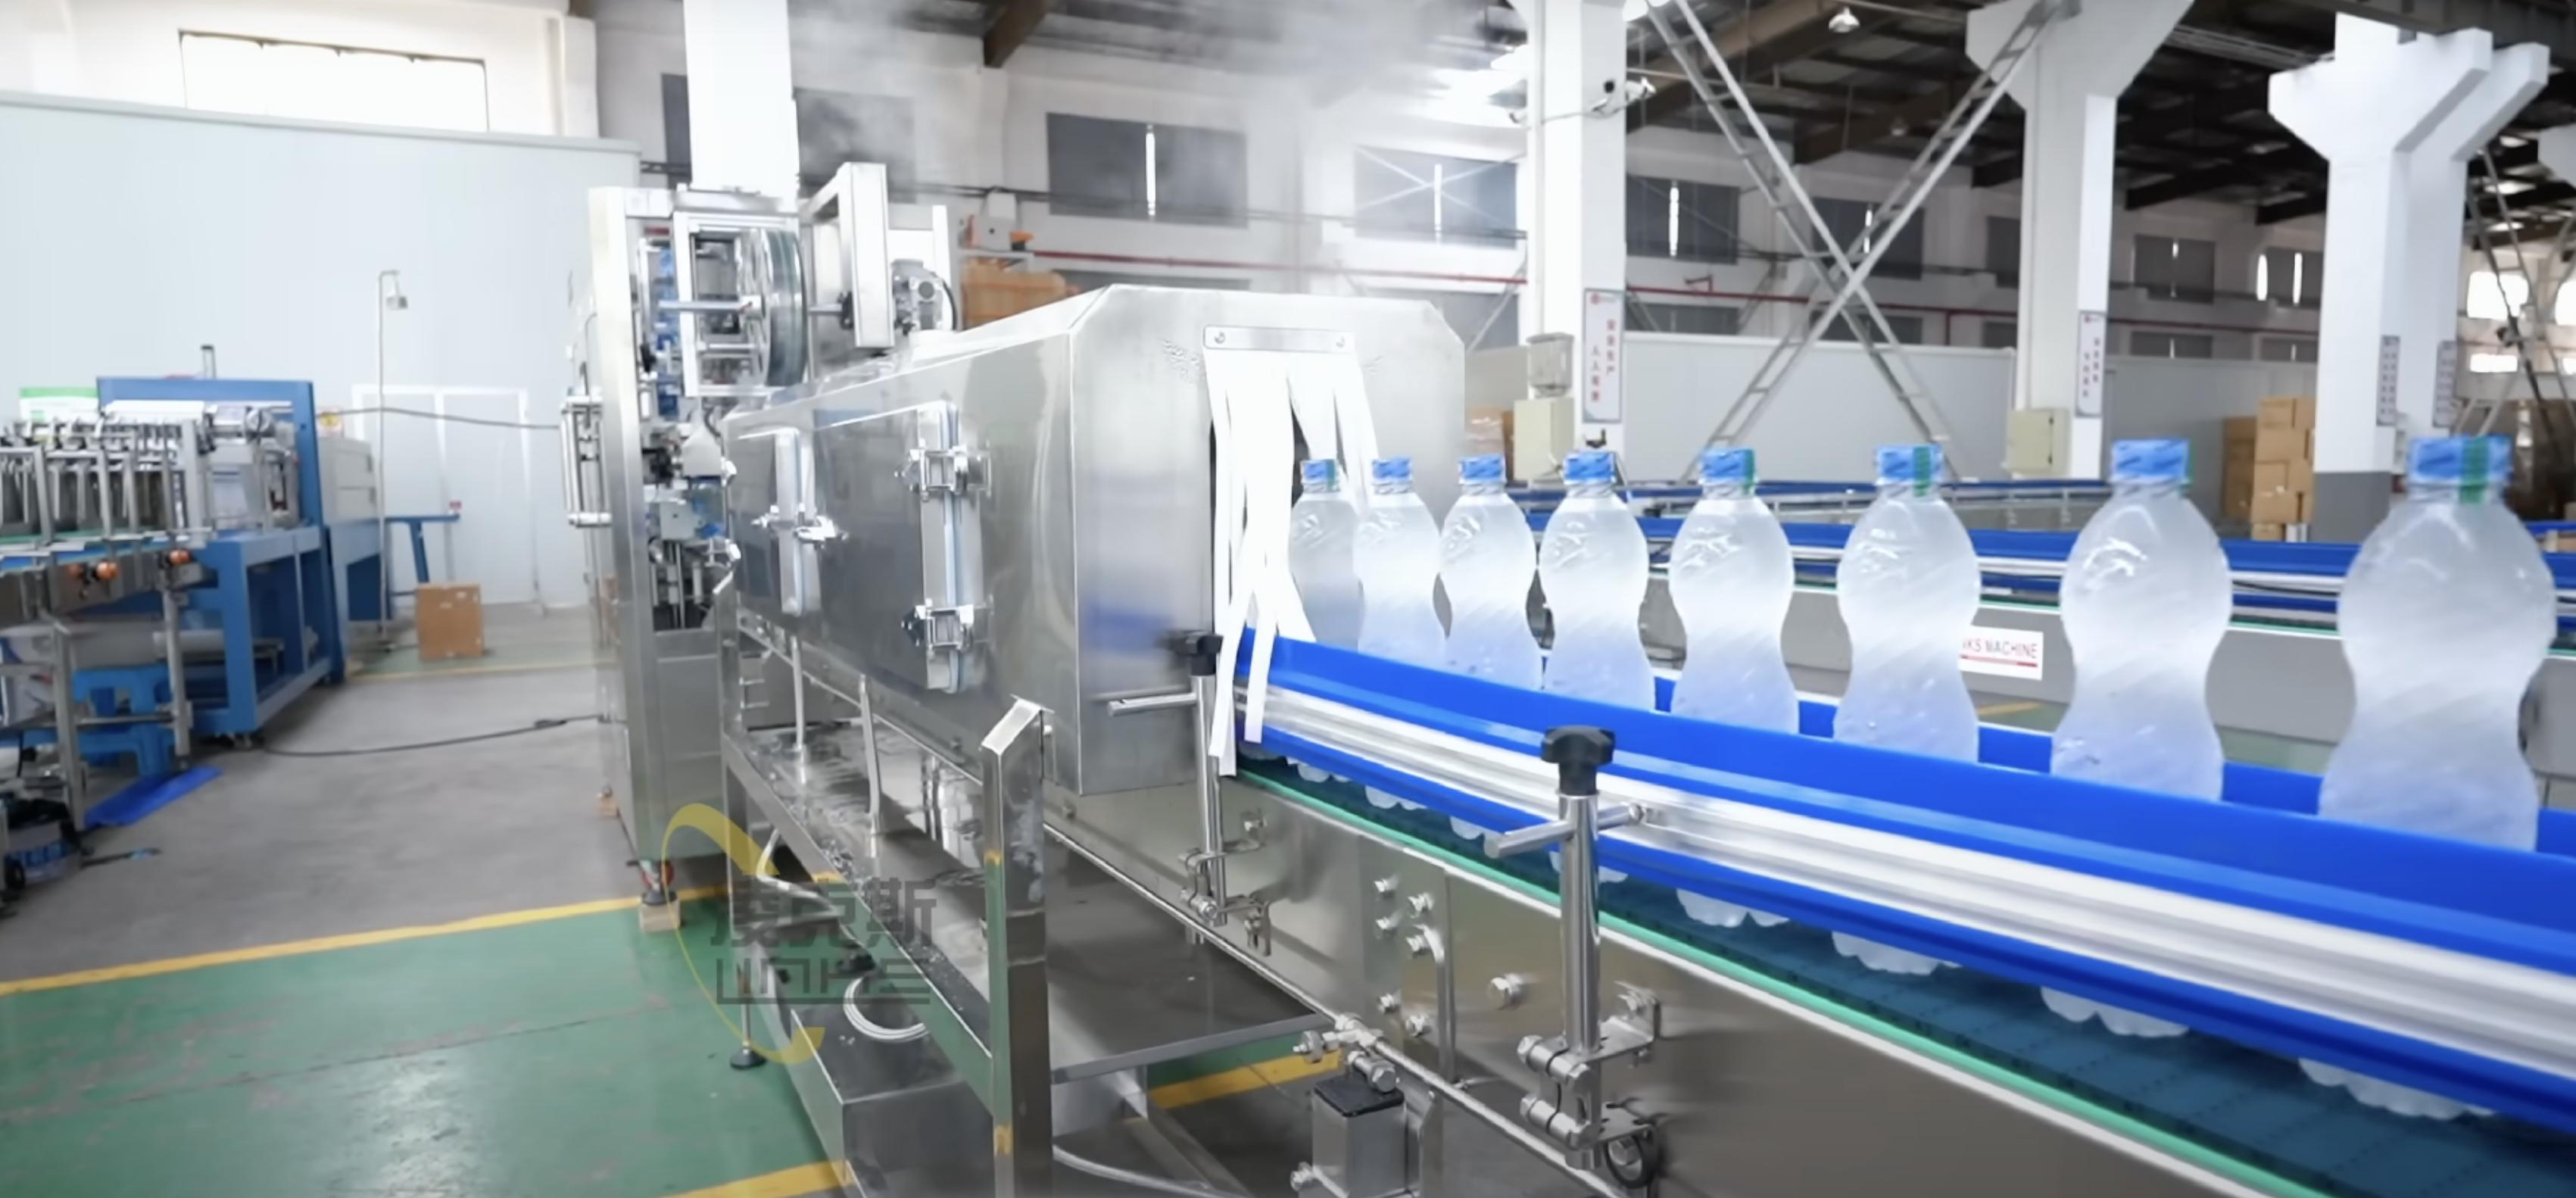bottle: (2318, 435, 2555, 850), (2049, 437, 2233, 800), (1832, 444, 1981, 764), (1669, 447, 1801, 733), (1538, 447, 1654, 708), (1439, 455, 1543, 689), (1355, 457, 1446, 667), (1288, 458, 1362, 649), (1837, 937, 1932, 973)
